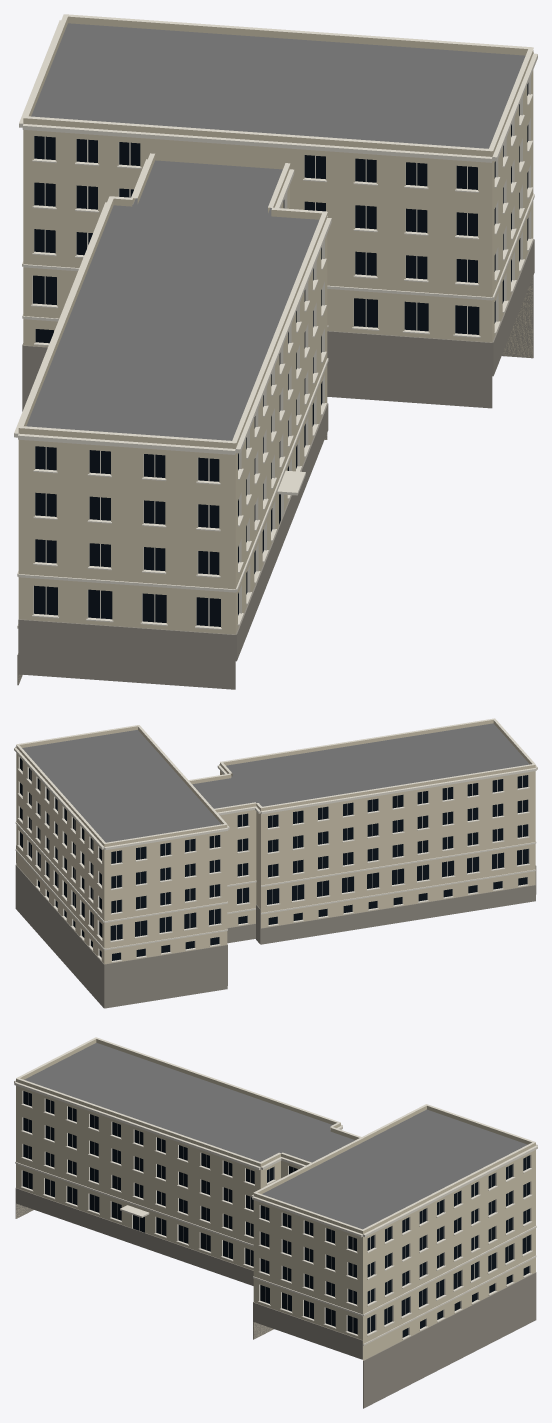
Rendered from voronina10.glb.
3 renders of one model, top to bottom at view 1: azimuth 30°, elevation 25°; view 2: azimuth 150°, elevation 25°; view 3: azimuth 270°, elevation 25°, orthographic. The views are drawn at different scales.
Parts seen in each view (by area): view 1: voronina10_roof, voronina10_wall, voronina10_trim, voronina10_stone, voronina10_glass; view 2: voronina10_wall, voronina10_roof, voronina10_stone, voronina10_trim, voronina10_glass; view 3: voronina10_wall, voronina10_roof, voronina10_trim, voronina10_stone, voronina10_glass.
Part boxes in pixels (x1,y1,x2,y2): voronina10_roof: (26,23,525,440); voronina10_wall: (18,16,533,683); voronina10_trim: (14,14,537,629); voronina10_stone: (17,239,534,689); voronina10_glass: (33,83,528,626); voronina10_wall: (16,720,535,964); voronina10_roof: (22,723,529,842); voronina10_stone: (15,845,536,1008); voronina10_trim: (14,718,537,962); voronina10_glass: (20,758,528,960); voronina10_wall: (16,1039,535,1360); voronina10_roof: (24,1043,527,1229); voronina10_trim: (14,1037,537,1345); voronina10_stone: (15,1188,536,1408); voronina10_glass: (22,1091,530,1337).
Size of the model in its own units: 59.37 by 23.36 by 62.46.
